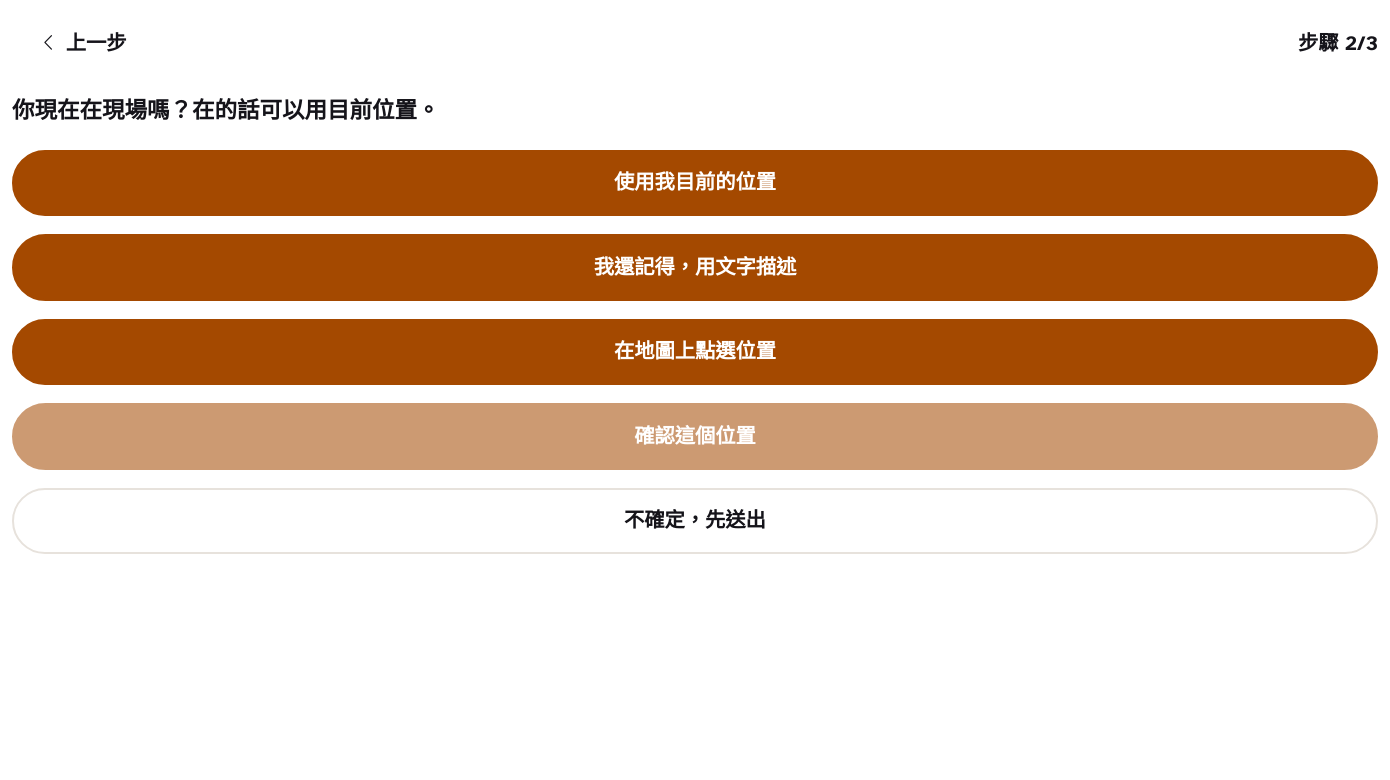
Test: LocationStep（P2 確認位置） › 在地圖模式下仍可改用文字描述（文字路徑永遠存在）
Click the button "在地圖上點選位置".
click(695, 352)  # box x1=12 y1=319 x2=1378 y2=385
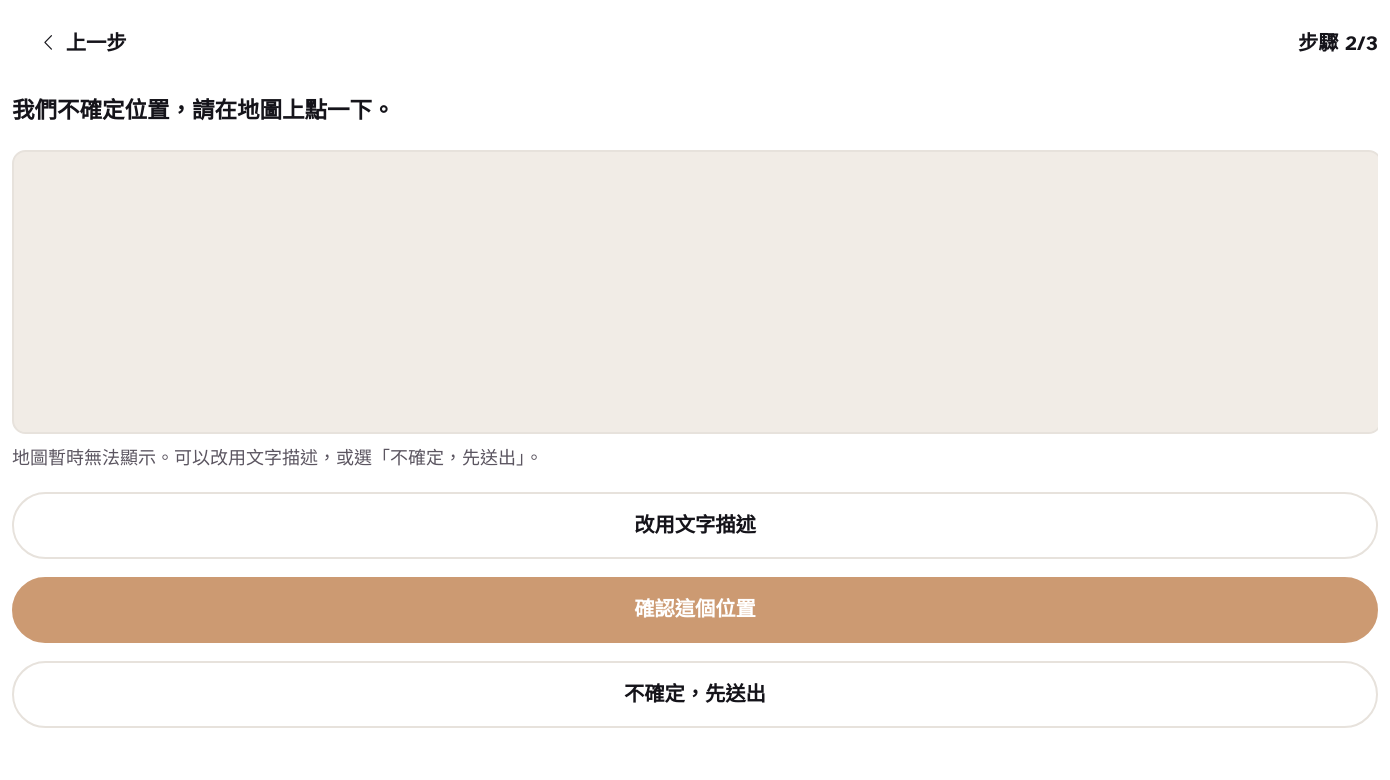
Expected: the button with class "location__skip" showing "改用文字描述" is shown
Click the button with class "location__skip" showing "改用文字描述".
click(695, 526)  # box x1=12 y1=492 x2=1378 y2=559
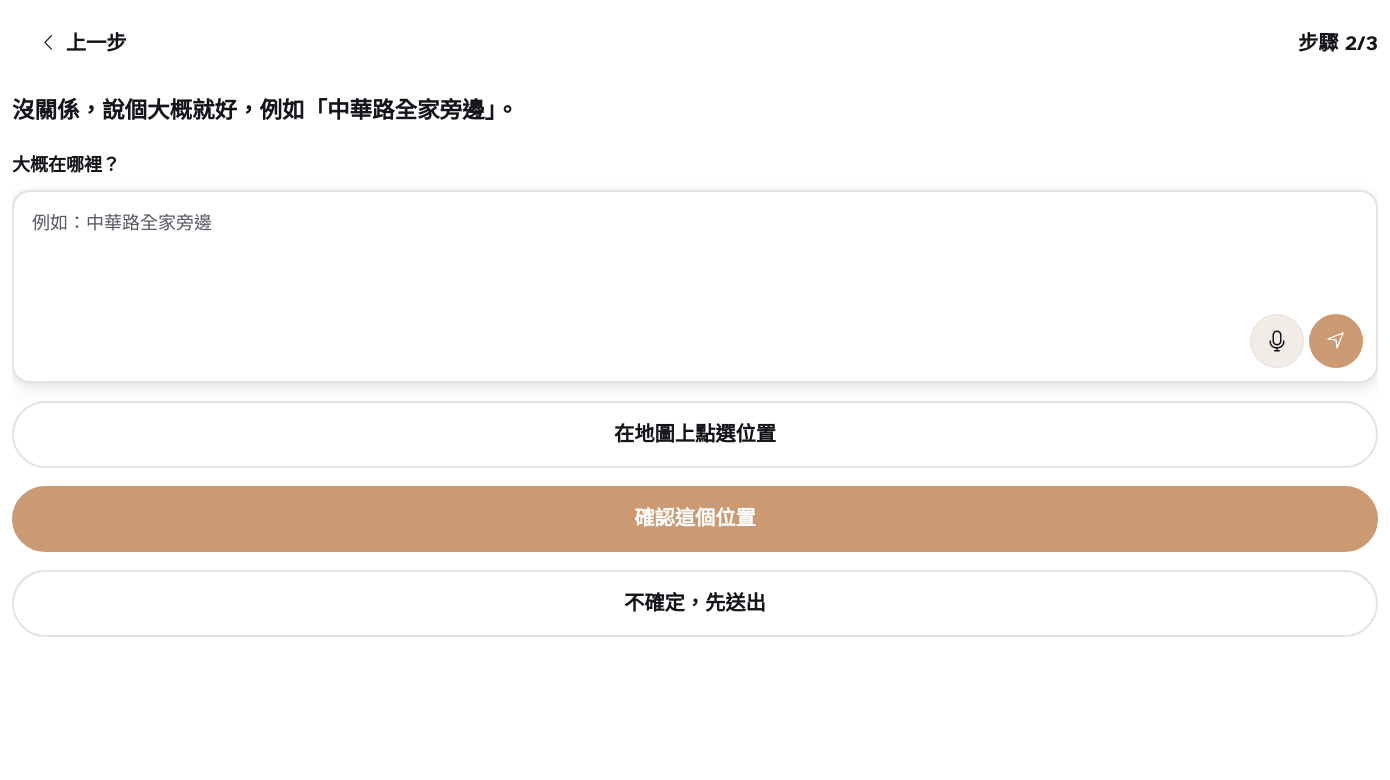
Expected: the element showing "大概在哪裡？" is shown, x1=12 y1=150 x2=1378 y2=383
